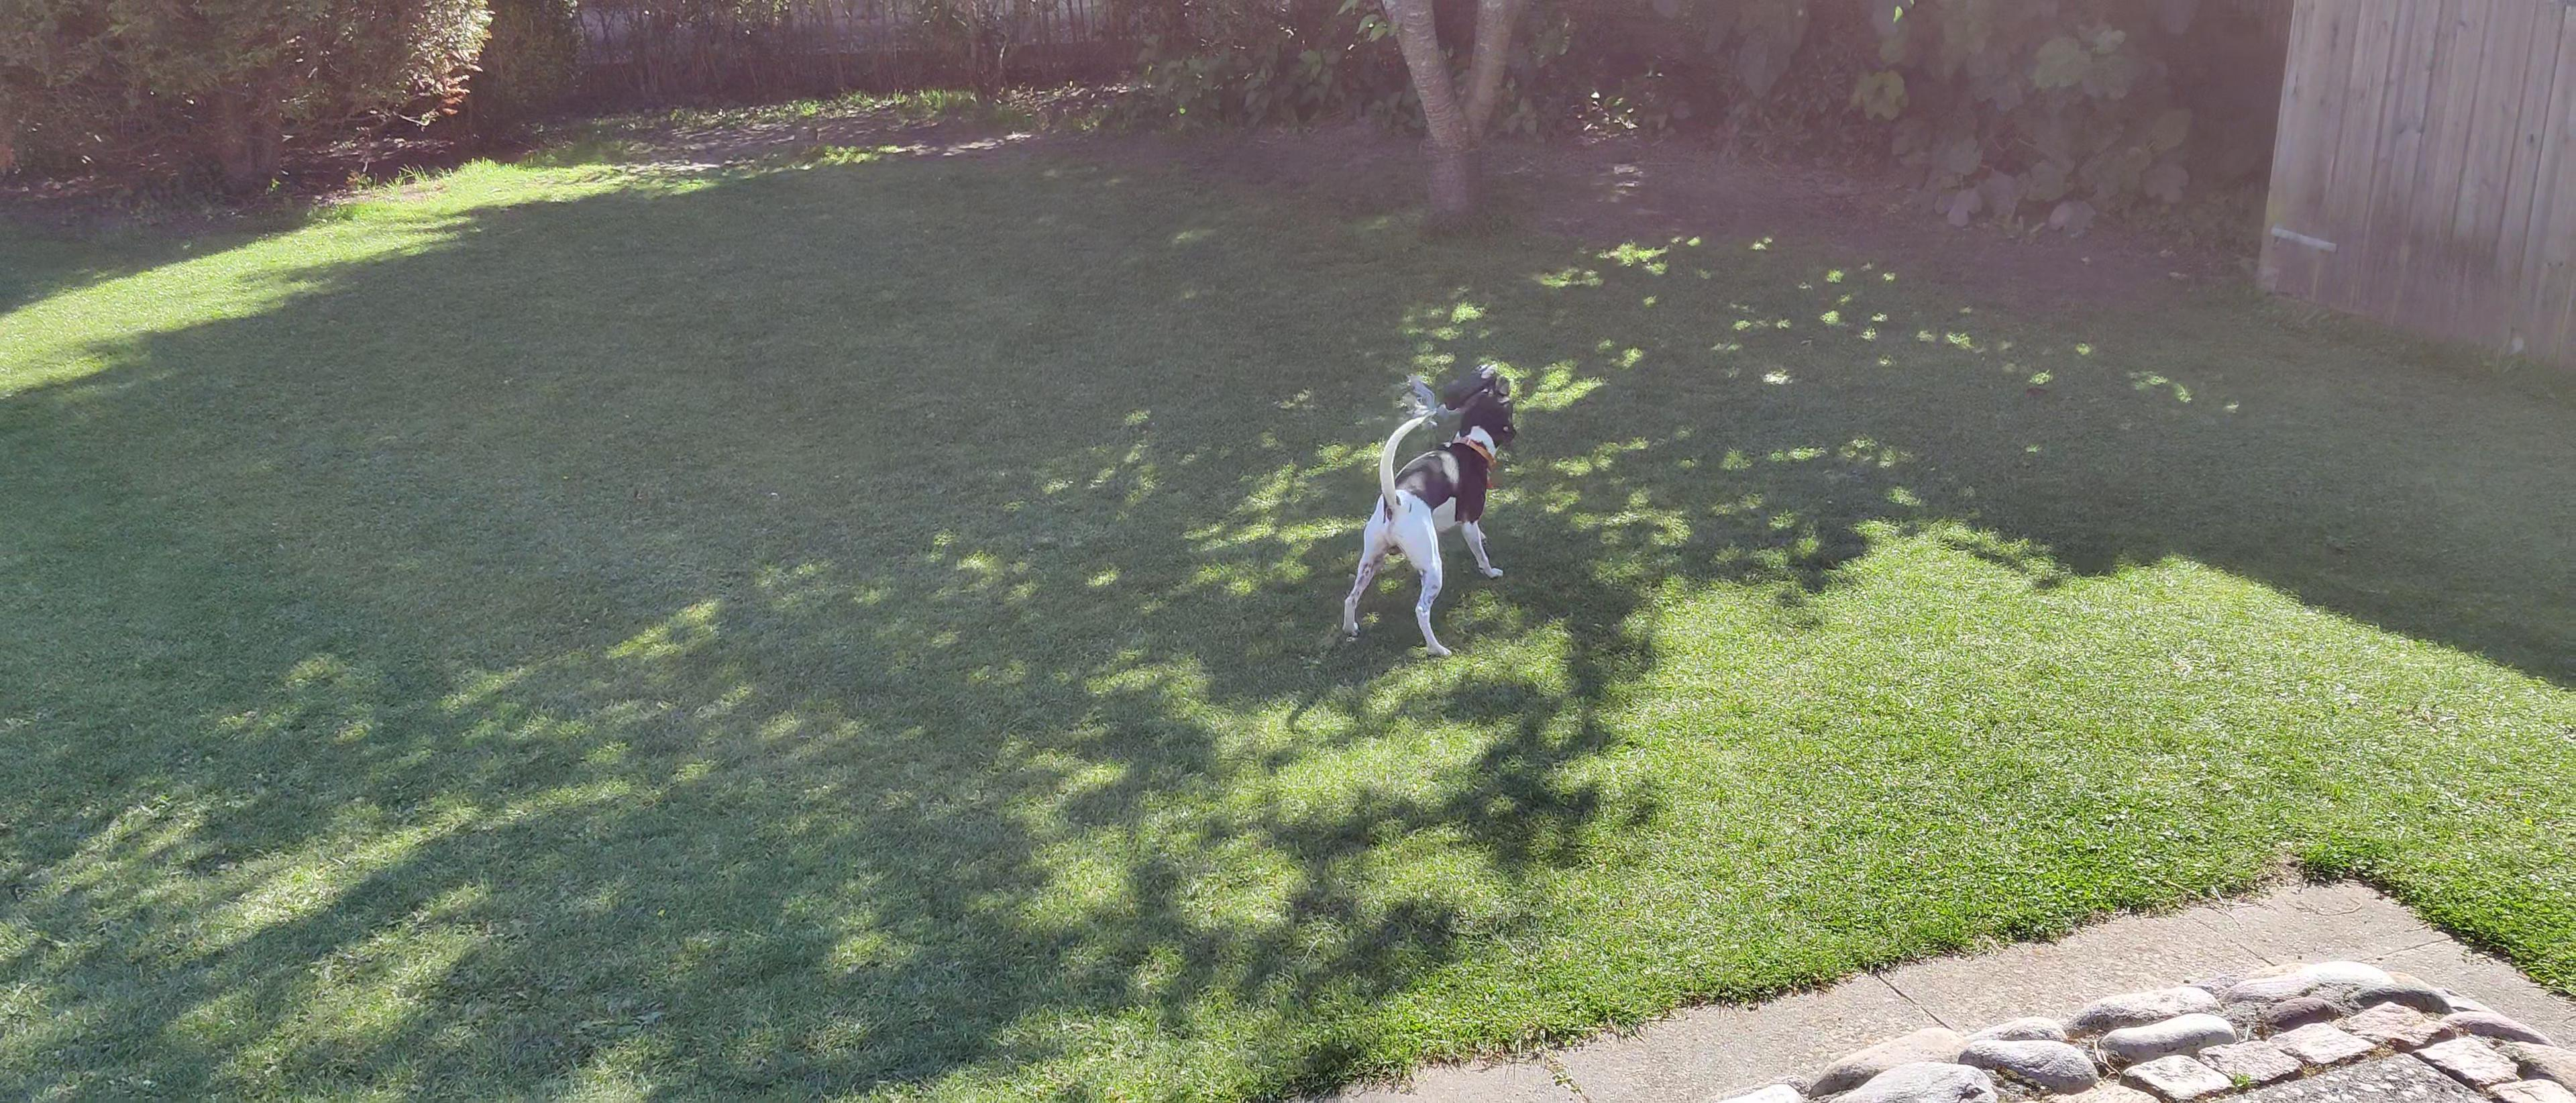Dog: (1331, 385, 1523, 662)
